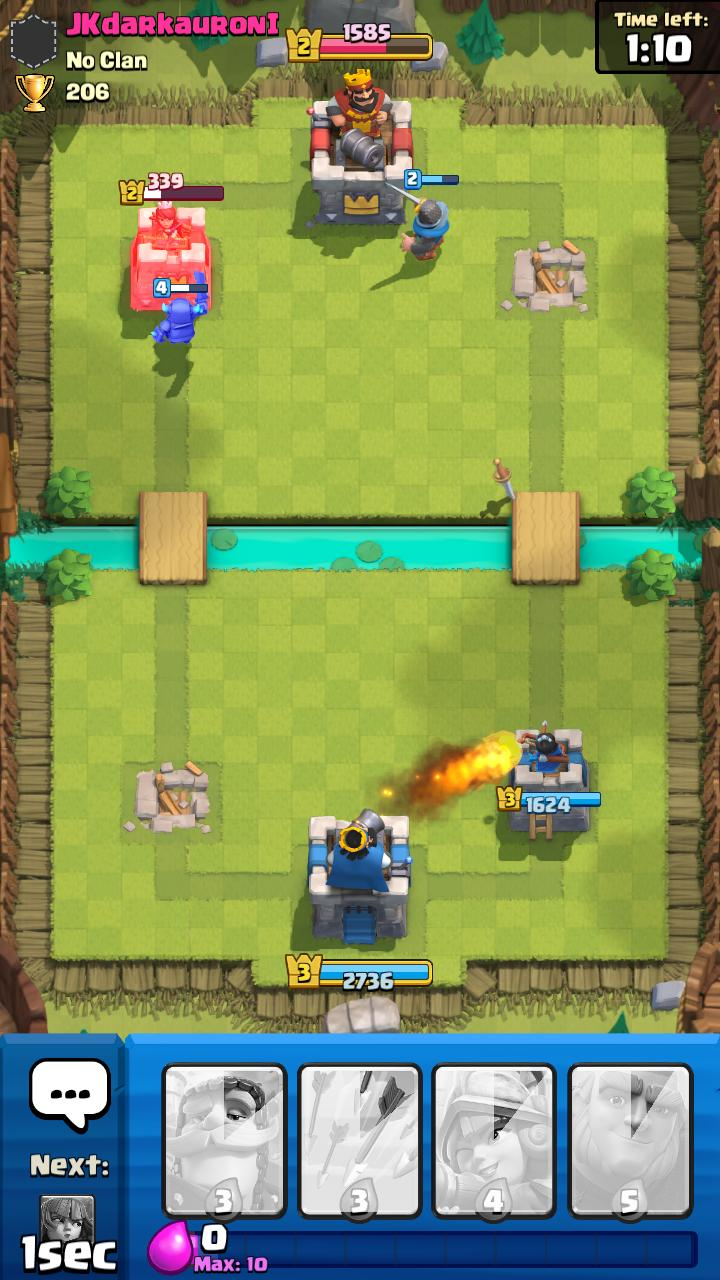ally: (386, 169, 460, 261), (151, 270, 210, 343)
